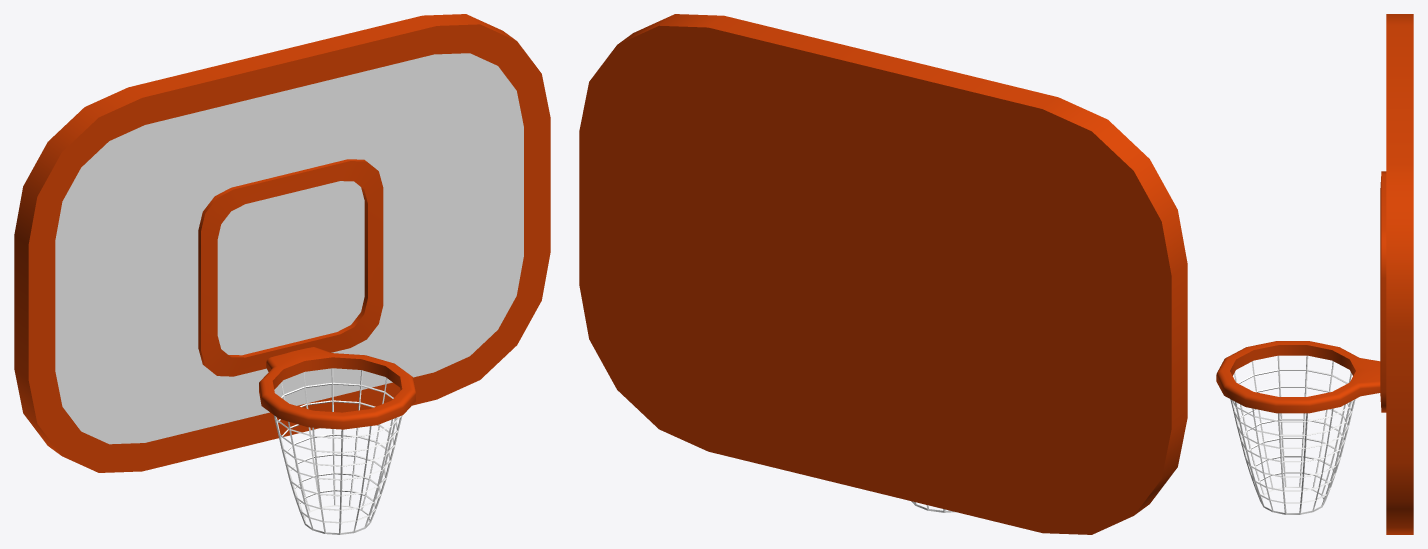
File: Basketball Net_1.fbx
The picture shows the model from 3 angles, left to right: view 1: azimuth 30°, elevation 25°; view 2: azimuth 150°, elevation 25°; view 3: azimuth 270°, elevation 25°; orthographic projection. The views are drawn at different scales.
Visible parts, largest first — view 1: Basketball Net_1; view 2: Basketball Net_1; view 3: Basketball Net_1.
Part boxes in pixels (x1,y1,x2,y2): Basketball Net_1: (14,14,550,534); Basketball Net_1: (579,14,1187,534); Basketball Net_1: (1216,14,1413,534).
Size of the model in its own units: 0.9596 by 0.7435 by 0.3263.
